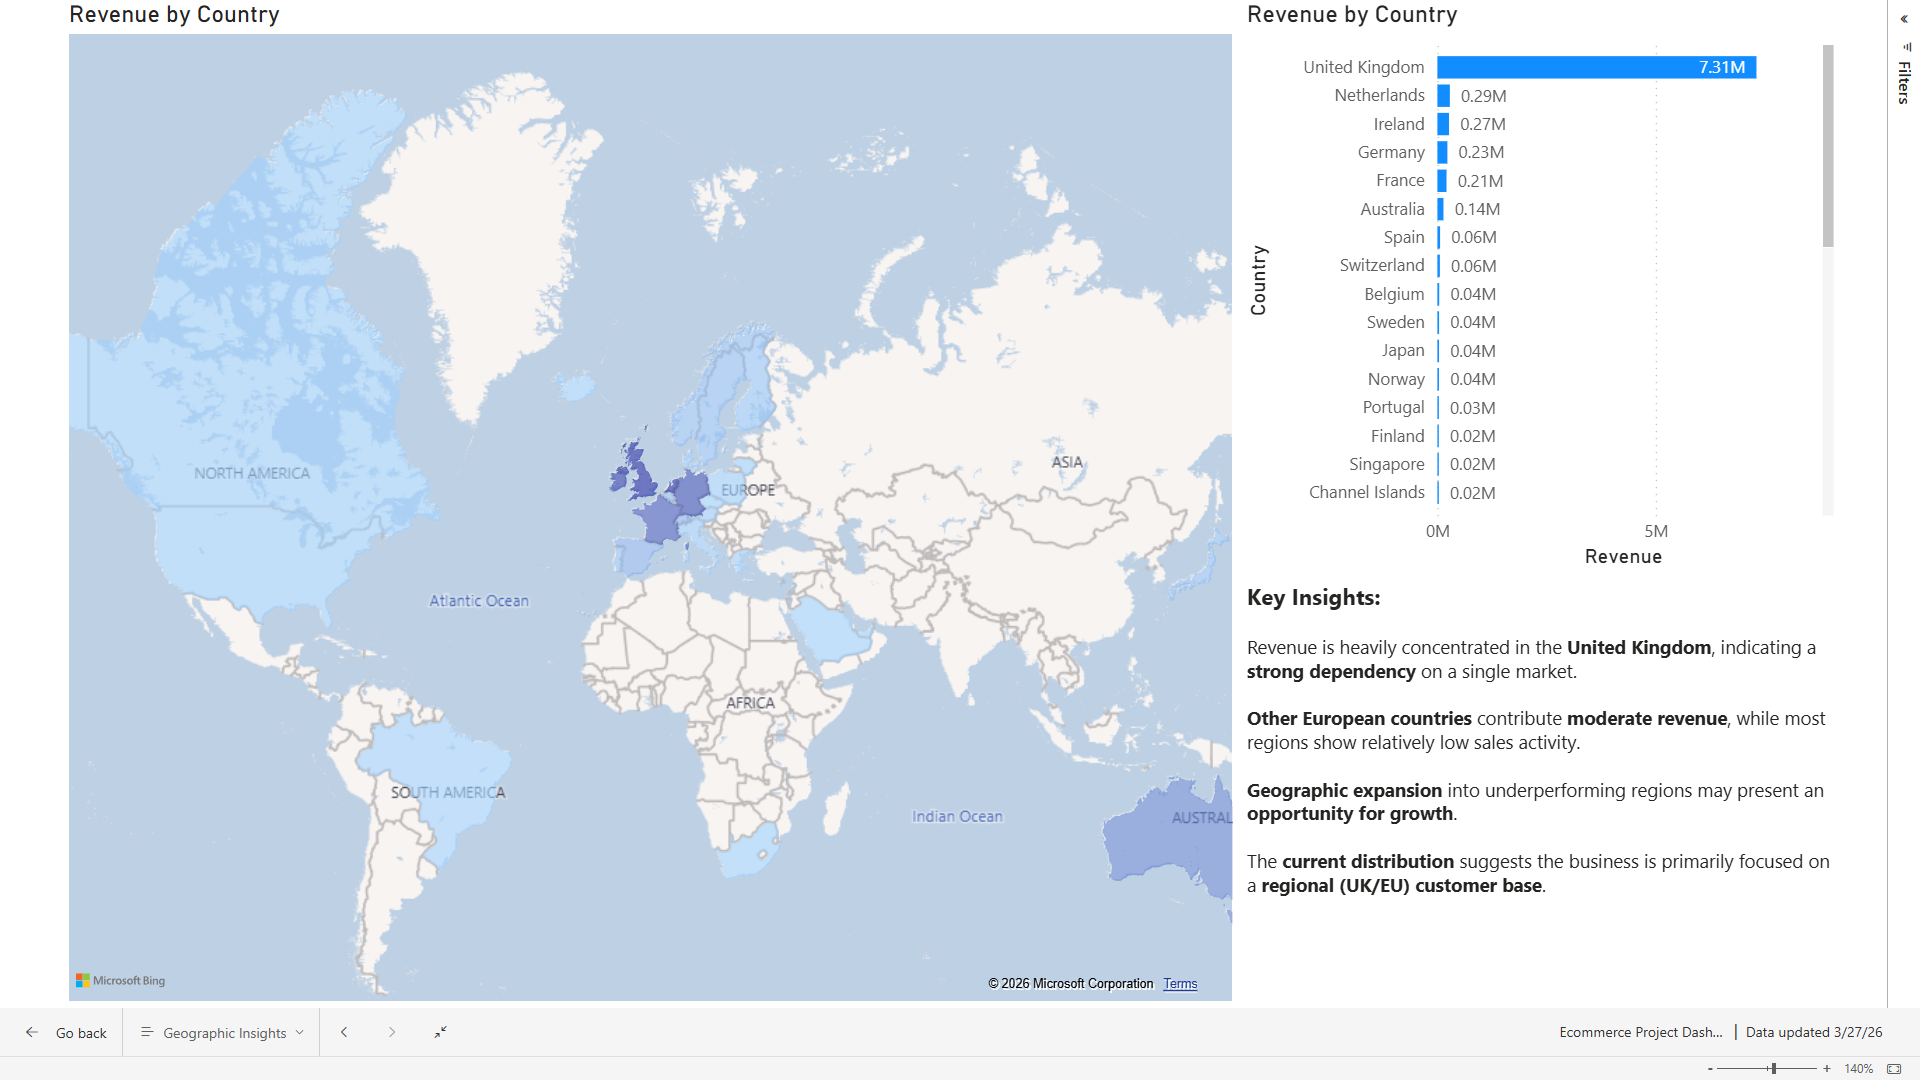

What the dashboard file says about the page in this screenshot:
{"tool":"powerbi","page":{"name":"Geographic Insights","canvas":[1280,720],"ordinal":3},"visuals":[{"type":"filledMap","title":"Revenue by Country","fields":{"Category":["country_summary.Country"]},"box":[9.9,0,841.2,720],"z":0},{"type":"barChart","title":"Revenue by Country","fields":{"Category":["country_summary.Country"],"Y":["Sum(country_summary.Revenue)"]},"box":[851.1,0,429.1,410.3],"z":1},{"type":"textbox","box":[851.1,410.3,429.1,309.7],"z":2}]}

Visuals, with their boxes on the page's 1280x720 design canvas (x1, y1, x2, y2). These are canvas units, not pixel positions in the 1920x1080 screenshot, which may show the page scaled, cropped or inside an application window:
"Revenue by Country" filledMap: Rect(10, 0, 851, 720)
"Revenue by Country" barChart: Rect(851, 0, 1280, 410)
textbox: Rect(851, 410, 1280, 720)
